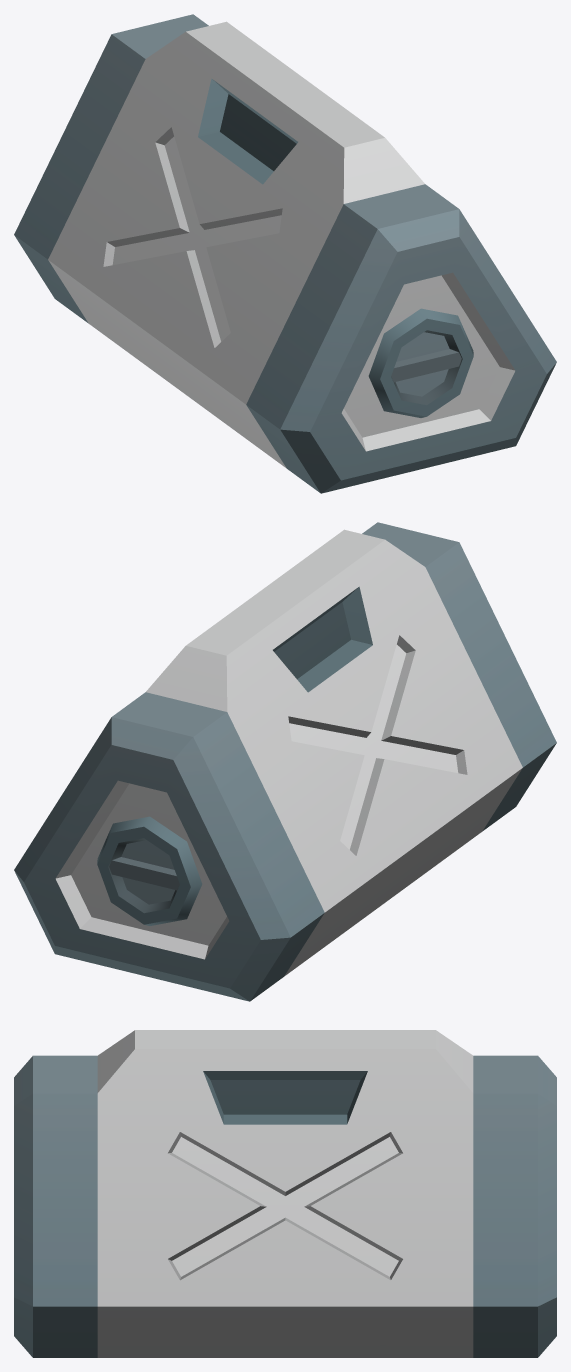
The model's file is Gas_can_015.fbx.
3 views of the same model, one above another, from view 1: azimuth 30°, elevation 25°; view 2: azimuth 150°, elevation 25°; view 3: azimuth 270°, elevation 25° (orthographic). The views are drawn at different scales.
Parts seen in each view (by area): view 1: Gas_can_015; view 2: Gas_can_015; view 3: Gas_can_015.
Boxes of the visible parts, <box> form: Gas_can_015: <box>14,14,556,493</box>; Gas_can_015: <box>14,522,556,1001</box>; Gas_can_015: <box>14,1030,556,1357</box>.
Bounding box in the file's own units: 33.99 × 60.85 × 33.77.
